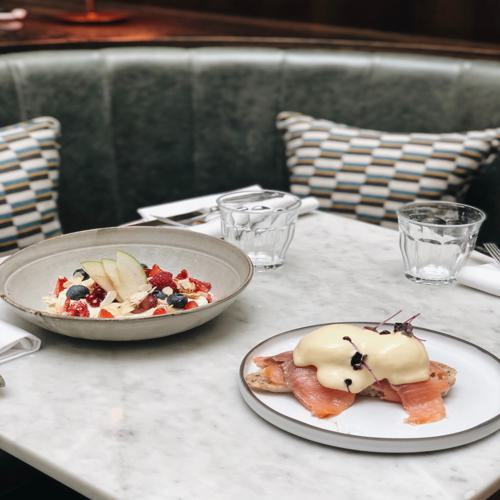vaso: (393, 198, 488, 289), (214, 190, 299, 270)
